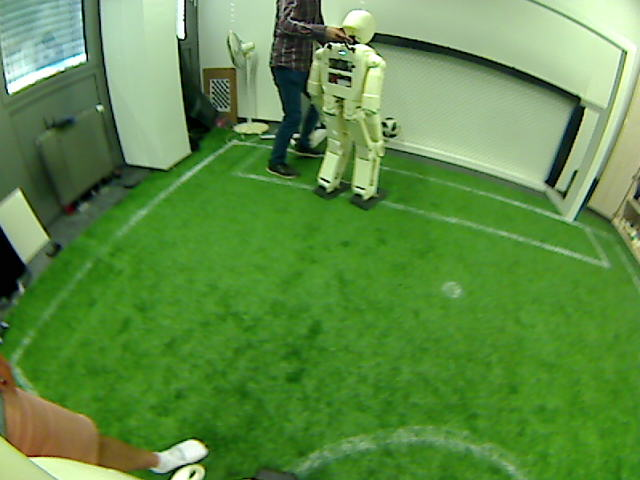ball: (381, 116, 396, 138)
goalpost: (560, 189, 581, 225)
robot: (320, 121, 374, 198)
